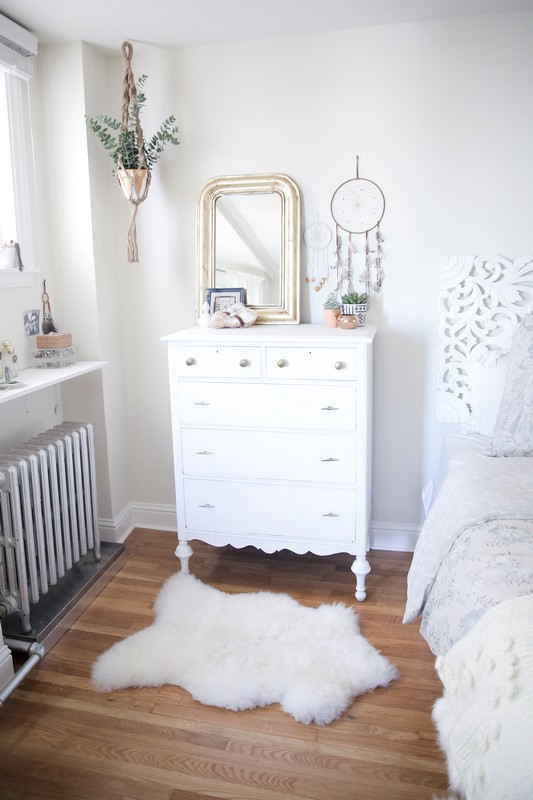bed: (430, 259, 533, 794)
stool: (162, 323, 386, 600)
